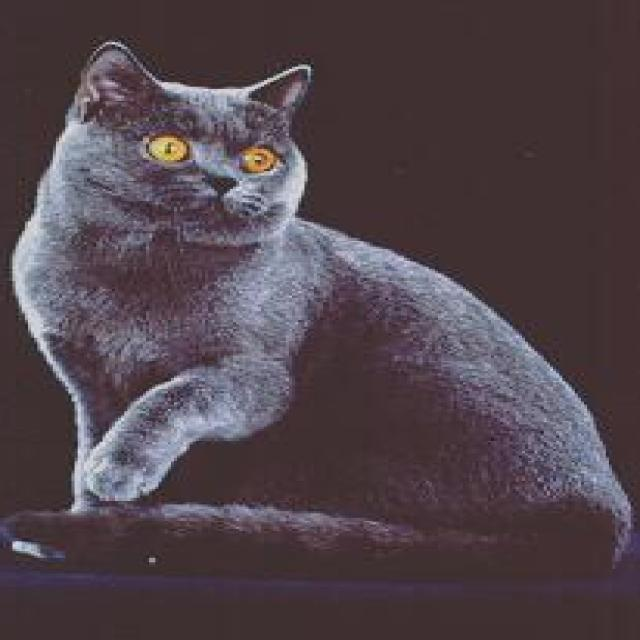British Shorthair: (3, 38, 638, 580)
